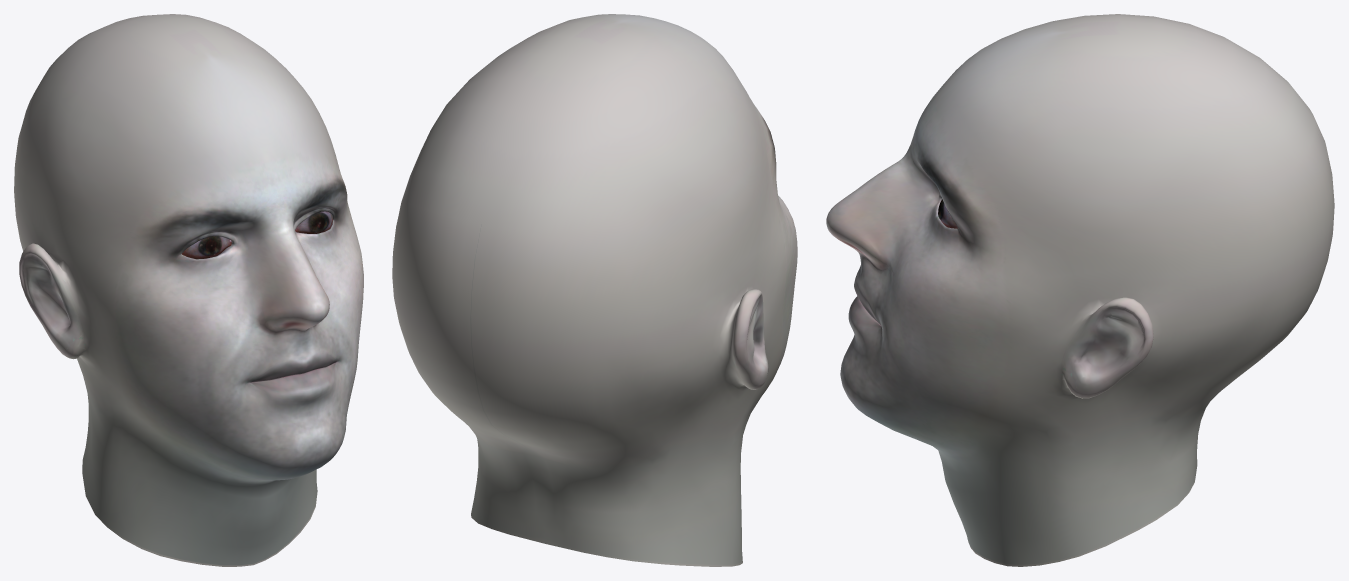
The picture shows the model from 3 angles, left to right: view 1: azimuth 30°, elevation 25°; view 2: azimuth 150°, elevation 25°; view 3: azimuth 270°, elevation 25°; orthographic projection. The views are drawn at different scales.
Parts seen in each view (by area): view 1: skin_hi, eyeR_hi, eyeL_hi; view 2: skin_hi; view 3: skin_hi.
Part boxes in pixels (bbox=[...]): skin_hi: bbox=[14, 14, 363, 566]; eyeR_hi: bbox=[182, 236, 231, 259]; eyeL_hi: bbox=[295, 211, 332, 233]; skin_hi: bbox=[392, 14, 797, 566]; skin_hi: bbox=[826, 14, 1334, 566].
Size of the model in its own units: 182 by 277 by 248.
